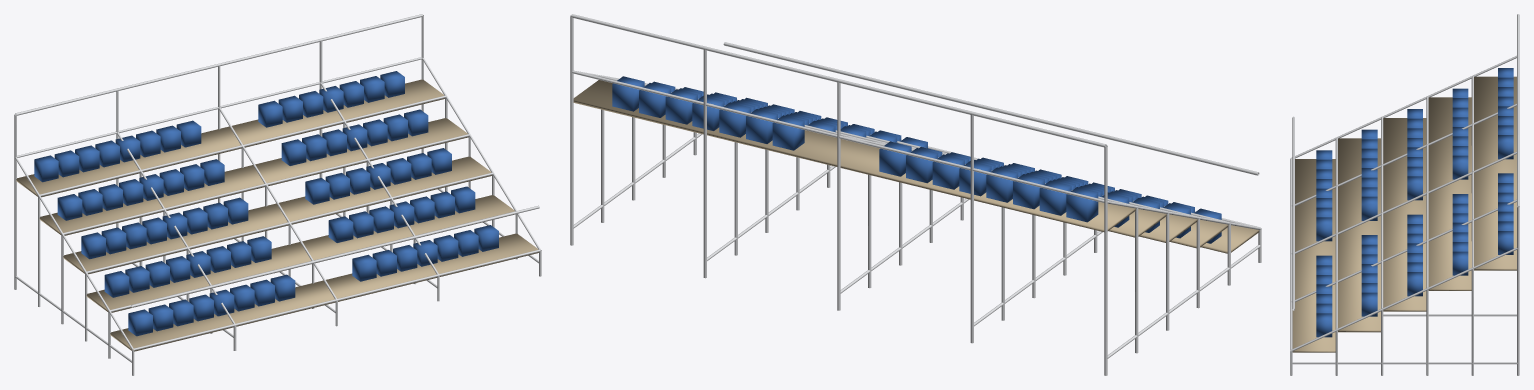
Rendered from scaffold_10m.glb.
3 views of the same model, side by side, from view 1: azimuth 30°, elevation 25°; view 2: azimuth 150°, elevation 25°; view 3: azimuth 270°, elevation 25° (orthographic). The views are drawn at different scales.
Visible parts, largest first — view 1: scaffold_10m; view 2: scaffold_10m; view 3: scaffold_10m.
Boxes of the visible parts, <box> form: scaffold_10m: <box>14,14,541,375</box>; scaffold_10m: <box>570,14,1261,375</box>; scaffold_10m: <box>1290,14,1519,375</box>.
Bounding box in the file's own units: 10.06 × 4.13 × 5.06.
